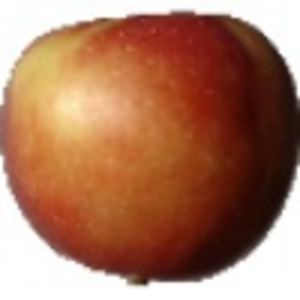maçã braeburn: (1, 10, 300, 280)
